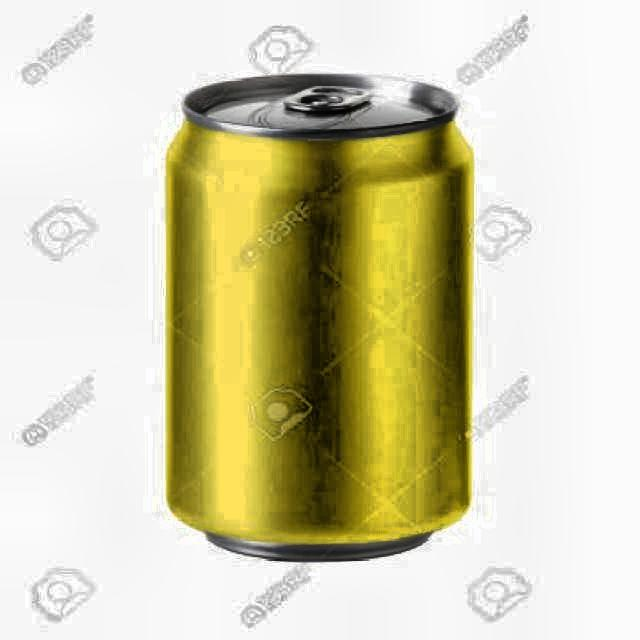can: (159, 67, 485, 564)
